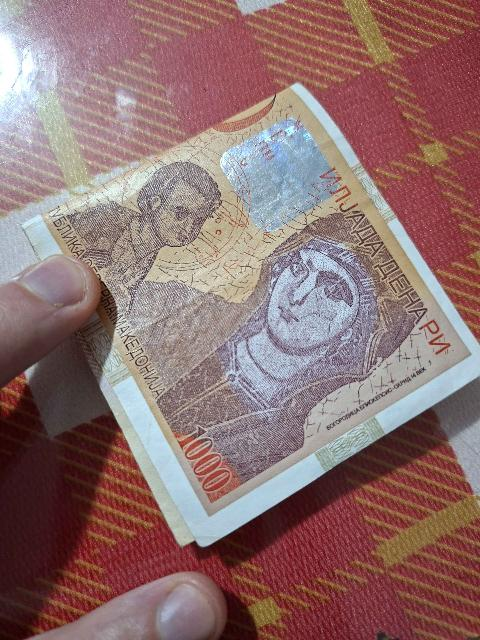1000_note: (27, 86, 479, 544)
